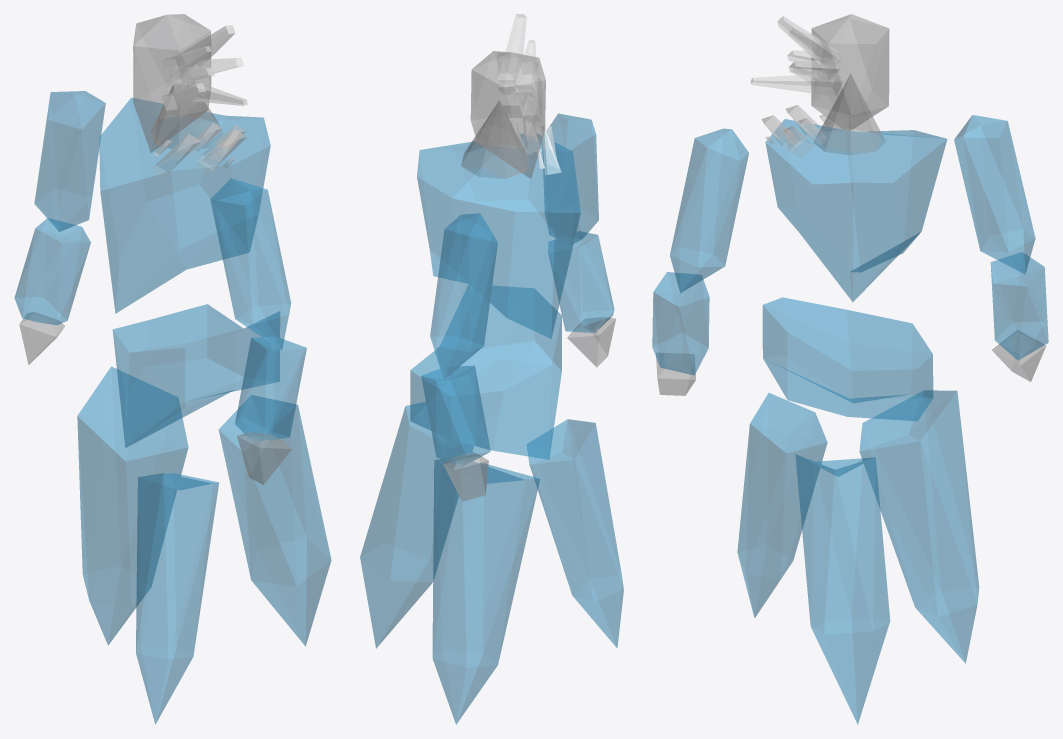
Rendered from ghostIdle10.obj.
3 views of the same model, side by side, from view 1: azimuth 30°, elevation 25°; view 2: azimuth 150°, elevation 25°; view 3: azimuth 270°, elevation 25° (orthographic). The views are drawn at different scales.
Parts seen in each view (by area): view 1: Cube.001_Cube.001, Icosphere.005, Icosphere.004, Cube_Cube.002, Icosphere.003, Icosphere.005_Icosphere.001, Icosphere.003_Icosphere.001, Icosphere.007_Icosphere.001, Icosphere.008_Icosphere.001, Icosphere.006_Icosphere.001, Cone_Cone.002, Cube.002_Cube.001 (+8 smaller); view 2: Cube.001_Cube.001, Cube_Cube.002, Icosphere.005, Icosphere.004, Icosphere.003, Icosphere.007_Icosphere.001, Icosphere.003_Icosphere.001, Icosphere.005_Icosphere.001, Icosphere.008_Icosphere.001, Icosphere.006_Icosphere.001, Cone_Cone.002, Cube.003_Cube.001 (+5 smaller); view 3: Cube.001_Cube.001, Icosphere.005, Icosphere.004, Cube_Cube.002, Icosphere.003, Icosphere.005_Icosphere.001, Icosphere.007_Icosphere.001, Icosphere.003_Icosphere.001, Icosphere.006_Icosphere.001, Icosphere.008_Icosphere.001, Cone_Cone.002, Cube.003_Cube.001 (+4 smaller).
Part boxes in pixels (x1,y1,x2,y2): Cube.001_Cube.001: (99, 97, 270, 313); Icosphere.005: (77, 366, 188, 645); Icosphere.004: (219, 395, 331, 645); Cube_Cube.002: (112, 304, 279, 447); Icosphere.003: (136, 473, 218, 724); Icosphere.005_Icosphere.001: (210, 178, 291, 350); Icosphere.003_Icosphere.001: (133, 14, 211, 152); Icosphere.007_Icosphere.001: (34, 91, 105, 231); Icosphere.008_Icosphere.001: (14, 218, 90, 324); Icosphere.006_Icosphere.001: (235, 337, 306, 441); Cone_Cone.002: (151, 85, 223, 149); Cube.002_Cube.001: (237, 432, 291, 484); Cube.001_Cube.001: (417, 134, 580, 338); Cube_Cube.002: (410, 284, 561, 459); Icosphere.005: (432, 459, 539, 724); Icosphere.004: (360, 402, 473, 648); Icosphere.003: (527, 419, 623, 647); Icosphere.007_Icosphere.001: (430, 213, 497, 378); Icosphere.003_Icosphere.001: (470, 51, 545, 178); Icosphere.005_Icosphere.001: (542, 113, 598, 244); Icosphere.008_Icosphere.001: (421, 365, 490, 467); Icosphere.006_Icosphere.001: (548, 231, 614, 332); Cone_Cone.002: (461, 100, 526, 178); Cube.003_Cube.001: (443, 452, 488, 501); Cube.001_Cube.001: (765, 119, 947, 301); Icosphere.005: (859, 390, 979, 663); Icosphere.004: (795, 454, 890, 724); Cube_Cube.002: (762, 297, 933, 421); Icosphere.003: (737, 393, 827, 617); Icosphere.005_Icosphere.001: (670, 128, 748, 292); Icosphere.007_Icosphere.001: (954, 115, 1035, 274); Icosphere.003_Icosphere.001: (811, 14, 889, 130); Icosphere.006_Icosphere.001: (652, 272, 709, 375); Icosphere.008_Icosphere.001: (990, 252, 1048, 360); Cone_Cone.002: (813, 74, 885, 154); Cube.003_Cube.001: (992, 330, 1045, 381).
Size of the model in its own units: 16.82 by 48.56 by 26.48.
